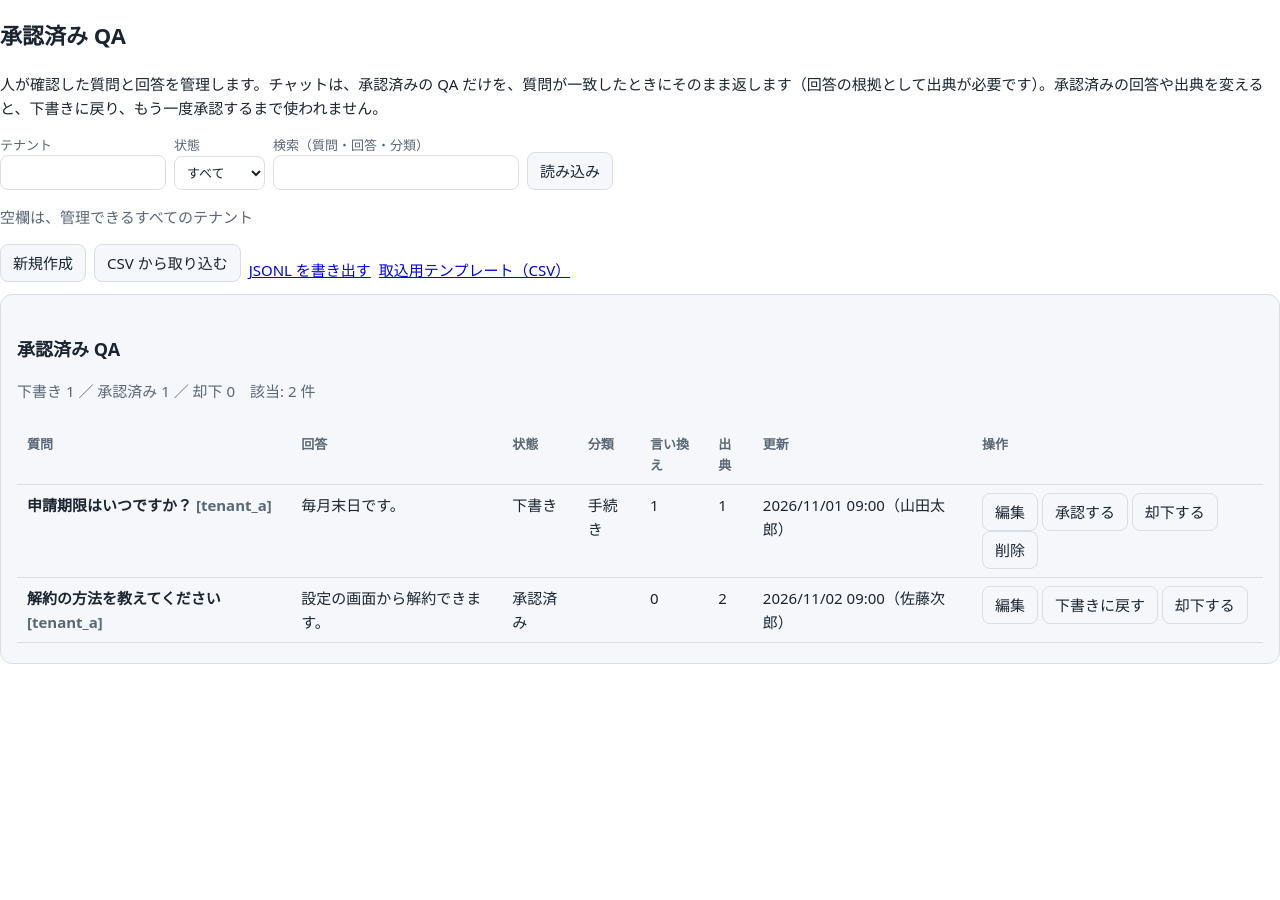
Test: the approved QA page › deletes a draft after a confirmation with a reason
Click the button with aria-label "削除: 申請期限": (1010, 550) x1=982 y1=531 x2=1038 y2=569
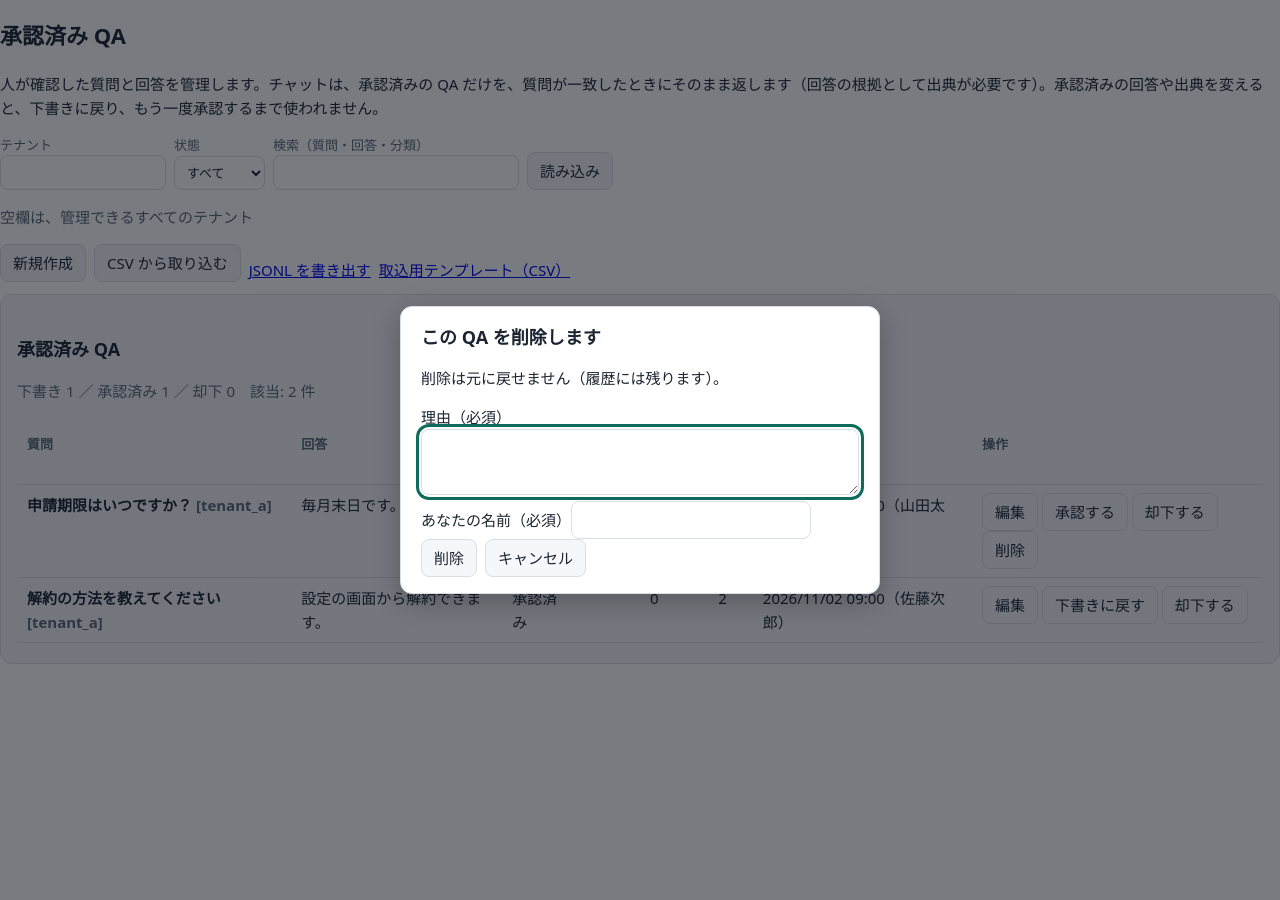
Now the dialog shows "削除は元に戻せません", box x1=421 y1=368 x2=728 y2=388
In the text box labelled "理由（必須）": (640, 462) x1=421 y1=429 x2=859 y2=495, type "重複のため"
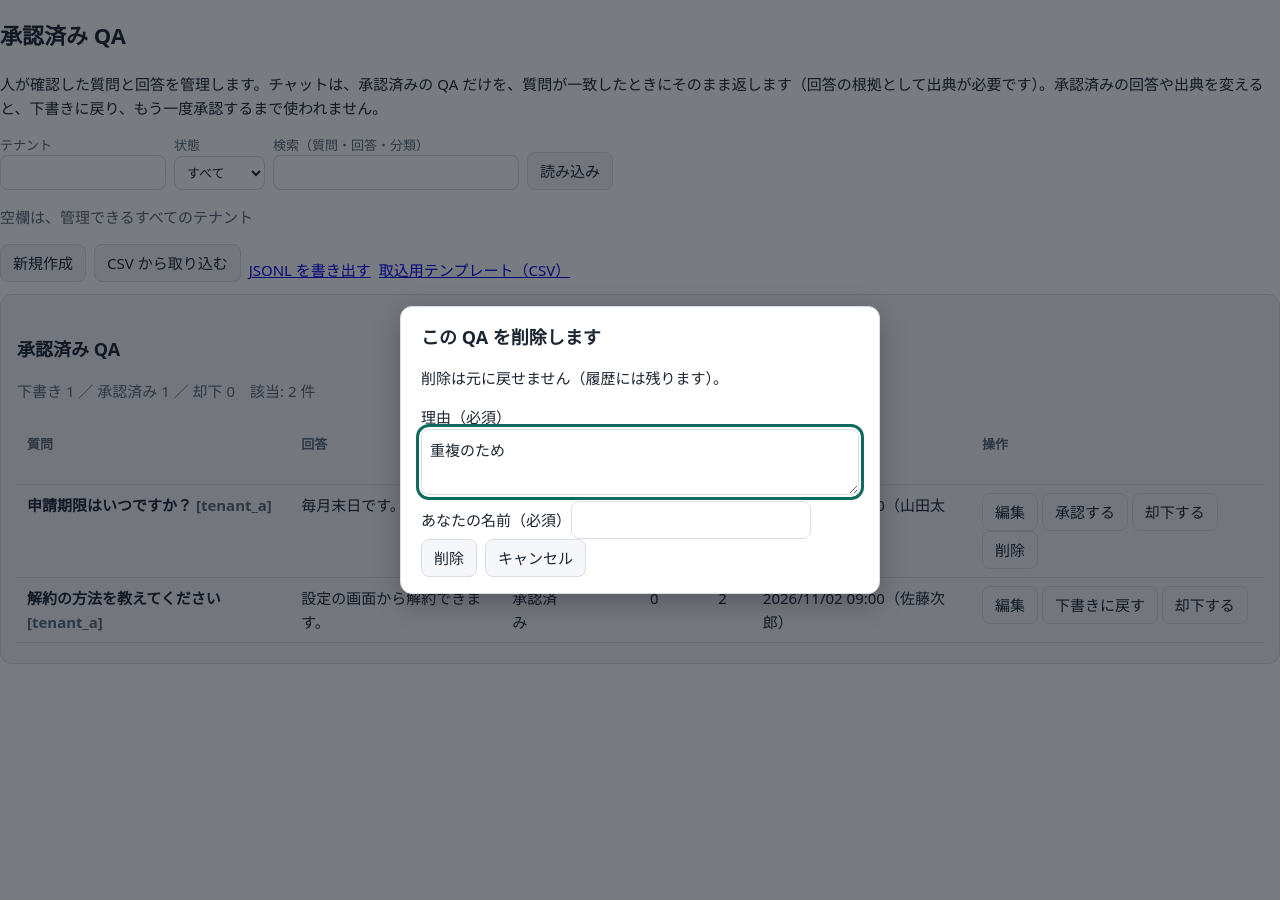
In the field labelled "あなたの名前（必須）": (691, 520) x1=571 y1=501 x2=811 y2=539, type "山田太郎"
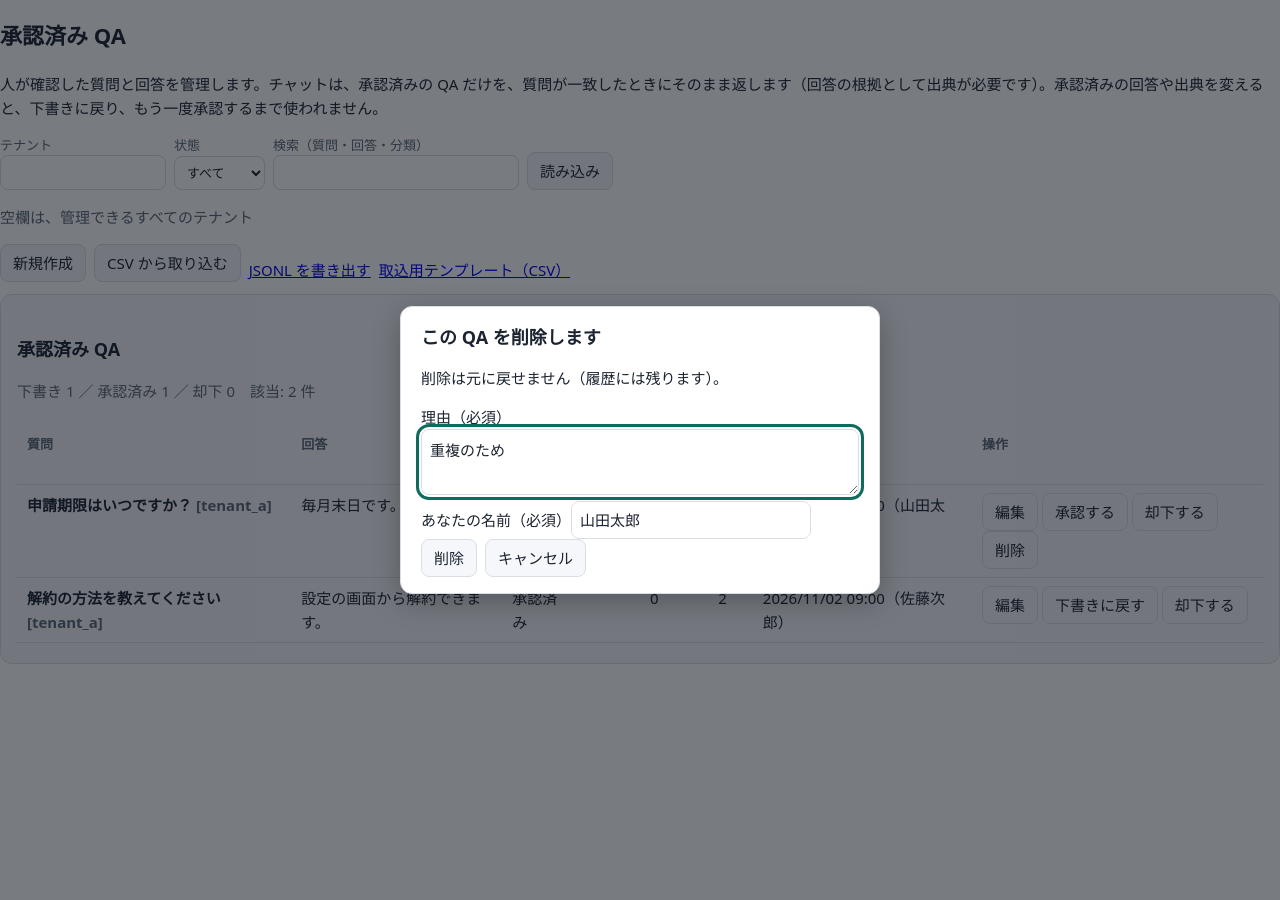
Click the button "削除": (449, 558) x1=421 y1=539 x2=477 y2=577
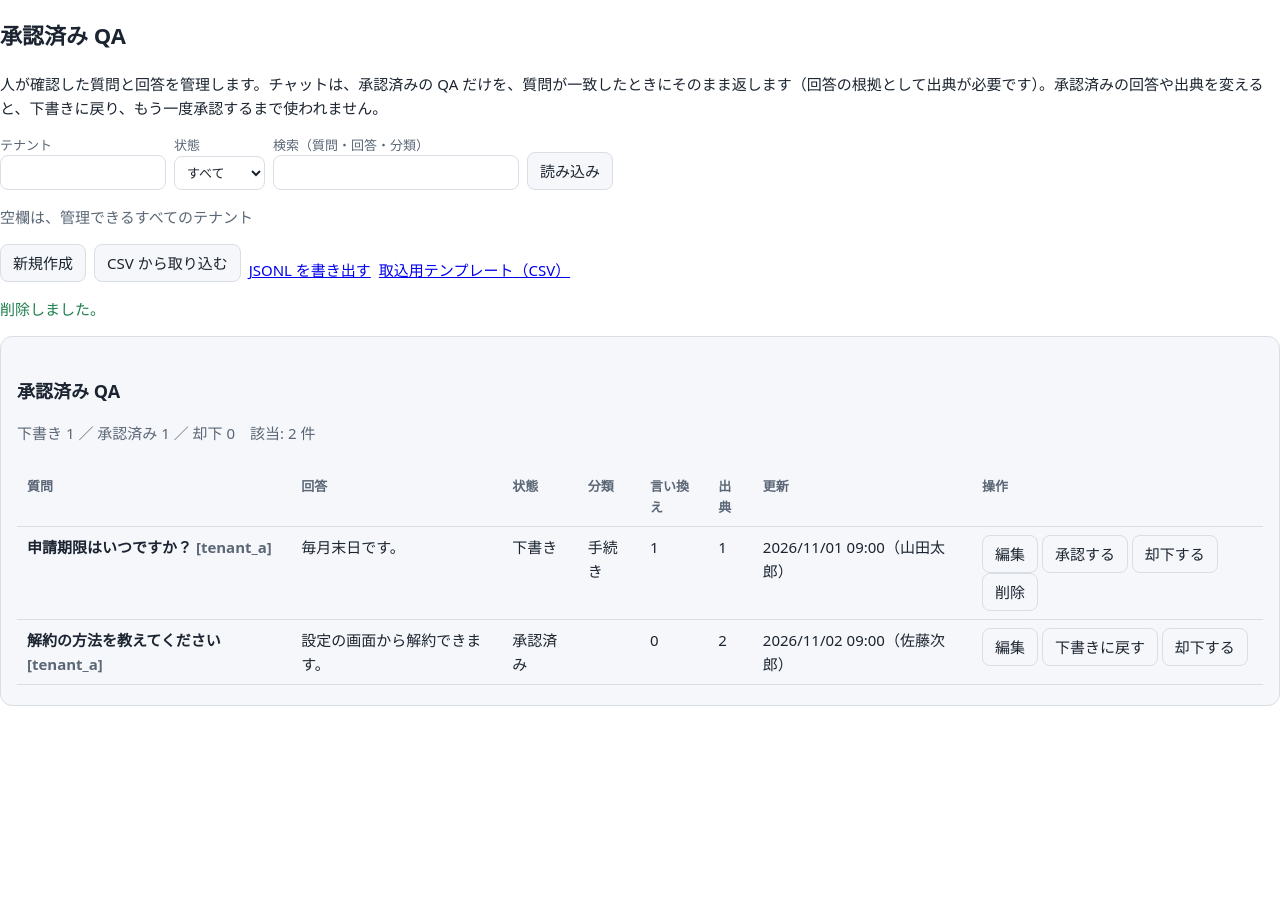
Now the text "削除しました。" is shown, box x1=0 y1=299 x2=105 y2=319
